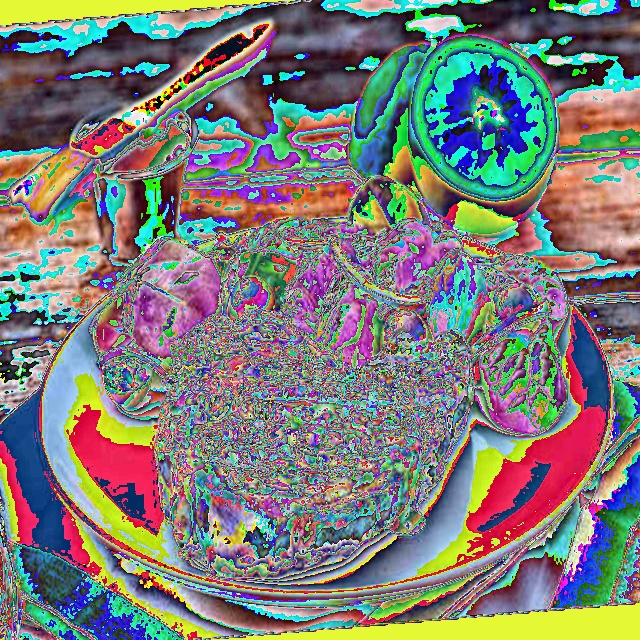background: (94, 33, 568, 578), (80, 50, 188, 171)
